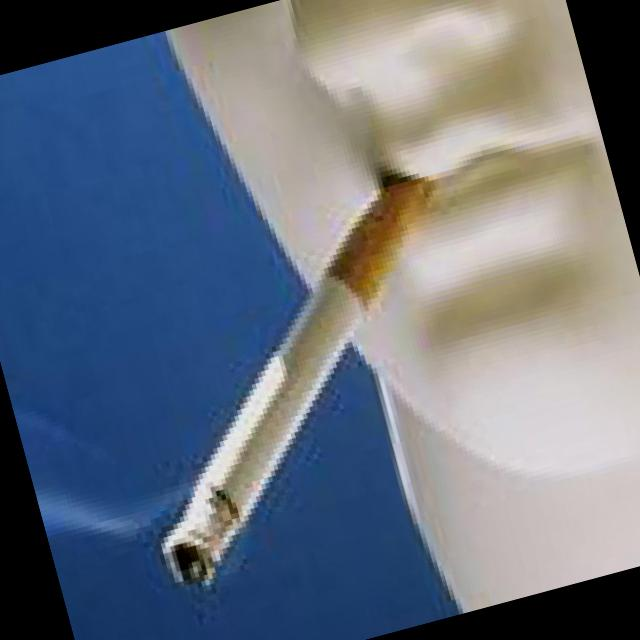cigarette: (74, 152, 528, 600)
